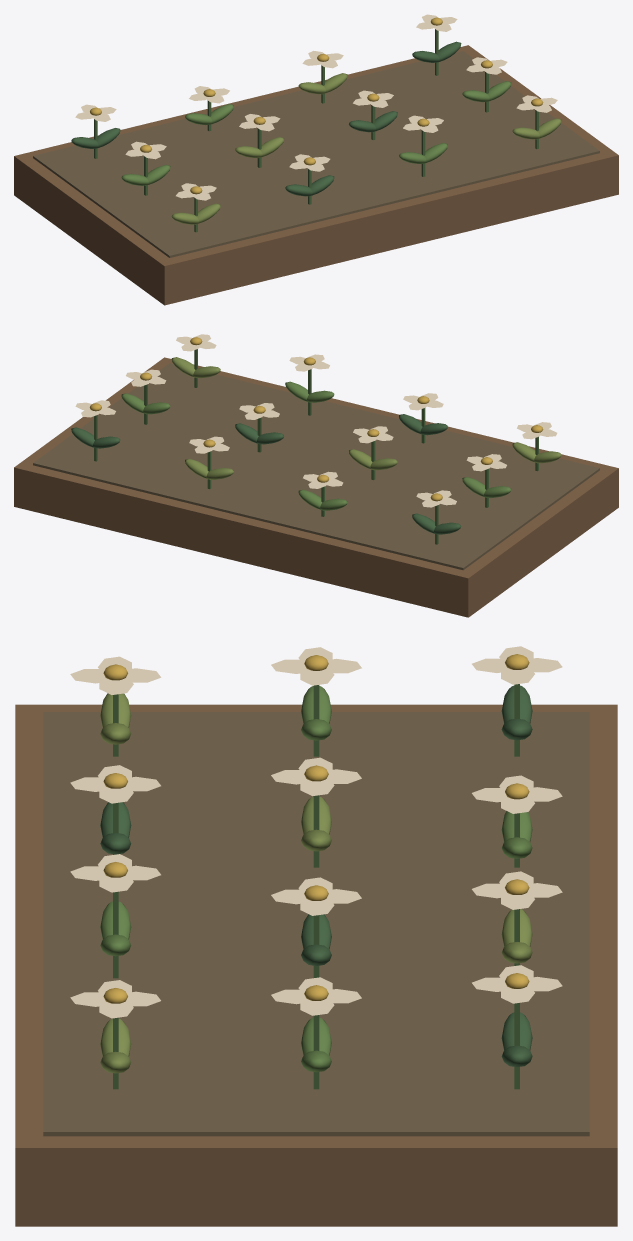
3 renders of one model, top to bottom at view 1: azimuth 30°, elevation 25°; view 2: azimuth 150°, elevation 25°; view 3: azimuth 270°, elevation 25°, orthographic. The views are drawn at different scales.
Parts seen in each view (by area): view 1: 화단 01, climb-flowers-0-0; view 2: 화단 01, climb-flowers-0-0; view 3: 화단 01, climb-flowers-0-0.
Part boxes in pixels (x1=…): 화단 01: x1=33, y1=14, x2=599, y2=257; climb-flowers-0-0: x1=14, y1=45, x2=618, y2=305; 화단 01: x1=33, y1=334, x2=599, y2=570; climb-flowers-0-0: x1=14, y1=357, x2=618, y2=617; 화단 01: x1=43, y1=646, x2=589, y2=1136; climb-flowers-0-0: x1=15, y1=704, x2=617, y2=1226.
Size of the model in its own units: 3.39 by 0.7011 by 1.94.
